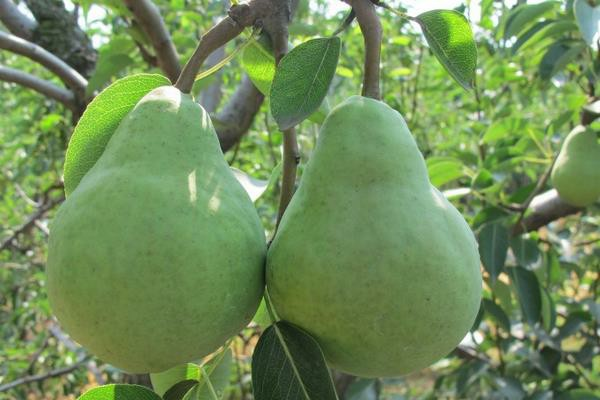pear: (44, 85, 269, 374), (265, 97, 483, 377), (553, 124, 600, 205)
